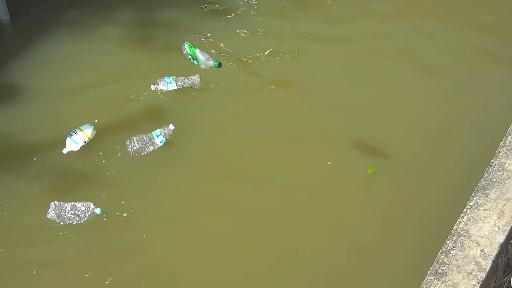leaf: (362, 162, 380, 178)
plastic: (49, 106, 113, 156), (30, 191, 106, 231), (134, 61, 221, 94), (175, 29, 230, 72), (116, 123, 186, 156)
